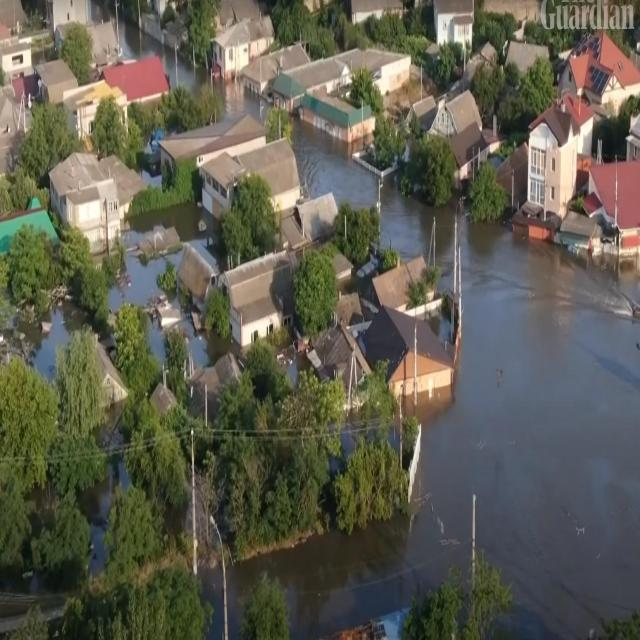flood: (229, 214, 640, 638), (291, 116, 378, 205), (77, 452, 129, 573), (29, 300, 88, 380), (380, 176, 433, 258), (109, 251, 180, 311), (122, 202, 218, 244), (181, 320, 239, 363), (141, 38, 175, 85), (219, 79, 260, 117), (96, 404, 122, 445), (438, 202, 452, 262), (177, 55, 200, 86), (120, 24, 139, 56), (149, 321, 164, 361)
house: (273, 46, 413, 116), (366, 309, 456, 410), (218, 250, 294, 348), (48, 151, 124, 249), (529, 107, 582, 239), (589, 158, 640, 266), (300, 91, 374, 147), (372, 249, 437, 307), (100, 56, 174, 106), (242, 44, 310, 98), (179, 240, 216, 314), (429, 88, 481, 138), (200, 154, 233, 228), (212, 22, 248, 86), (454, 123, 490, 175), (433, 0, 475, 44), (66, 90, 98, 140), (103, 367, 127, 405)
